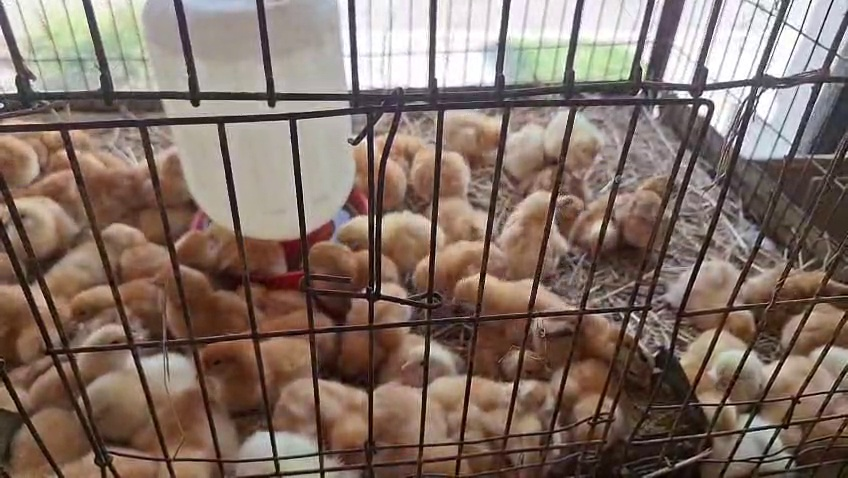Pollo: (524, 306, 658, 396), (353, 357, 459, 461), (76, 355, 199, 437), (200, 325, 312, 410), (712, 380, 809, 478), (157, 334, 221, 477), (450, 266, 577, 337), (421, 348, 500, 459), (174, 210, 294, 281), (230, 414, 360, 478), (675, 327, 753, 433), (664, 255, 765, 333), (339, 266, 408, 379), (267, 361, 376, 432), (484, 191, 575, 275), (544, 353, 630, 439), (150, 267, 259, 333), (9, 388, 88, 478), (478, 353, 551, 445), (413, 225, 524, 285), (335, 203, 441, 265), (766, 356, 842, 442), (47, 228, 149, 291), (296, 228, 398, 291), (746, 251, 846, 315), (106, 138, 200, 205), (96, 205, 172, 285), (757, 270, 848, 334), (0, 189, 77, 263), (74, 425, 179, 477), (484, 313, 569, 373), (410, 187, 485, 251), (619, 176, 689, 243), (3, 278, 63, 355), (780, 321, 847, 387), (426, 102, 504, 157), (571, 184, 636, 249), (405, 139, 470, 202), (70, 156, 136, 217), (260, 290, 326, 345), (352, 138, 406, 204), (544, 103, 602, 164), (385, 326, 454, 376), (62, 277, 138, 320), (35, 102, 96, 154), (22, 351, 97, 392), (504, 108, 546, 177), (69, 326, 144, 364), (520, 154, 579, 199), (0, 137, 42, 191), (490, 449, 549, 477), (490, 185, 580, 202)
